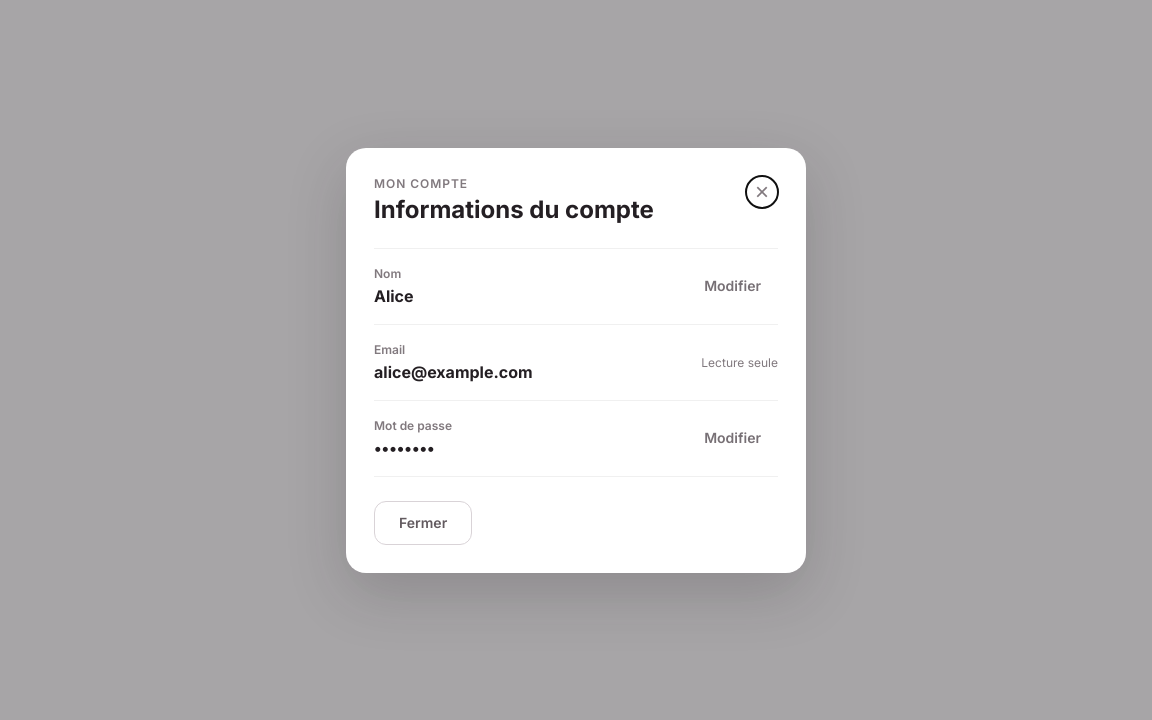
Test: AccountInfoModal › affiche l’email en lecture seule et permet de modifier le nom
Expected: the text "alice@example.com" is shown, top-left (374, 362), bottom-right (533, 382)
Expected: the text "Lecture seule" is shown, top-left (701, 354), bottom-right (778, 370)
Click the button "Modifier" in the row of "Nom" at (733, 286), box top-left (687, 264), bottom-right (778, 308)
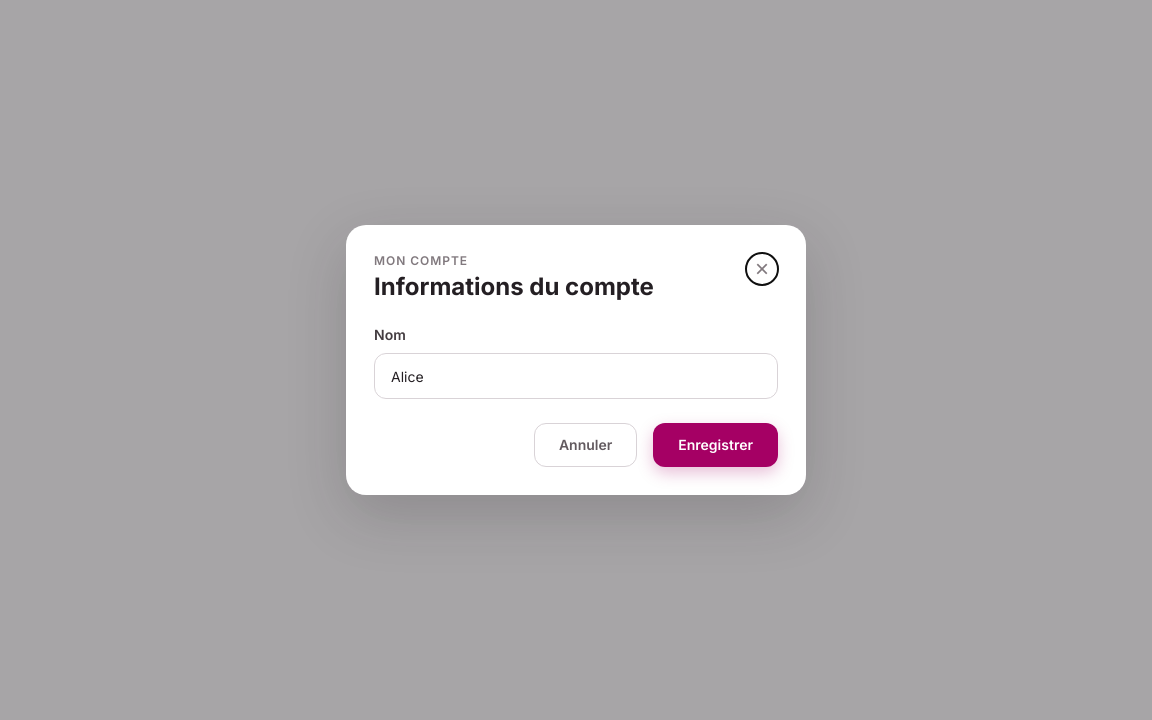
Replace the text in the field labelled "Nom" with "Alice Martin" at (576, 376), box top-left (374, 353), bottom-right (778, 399)
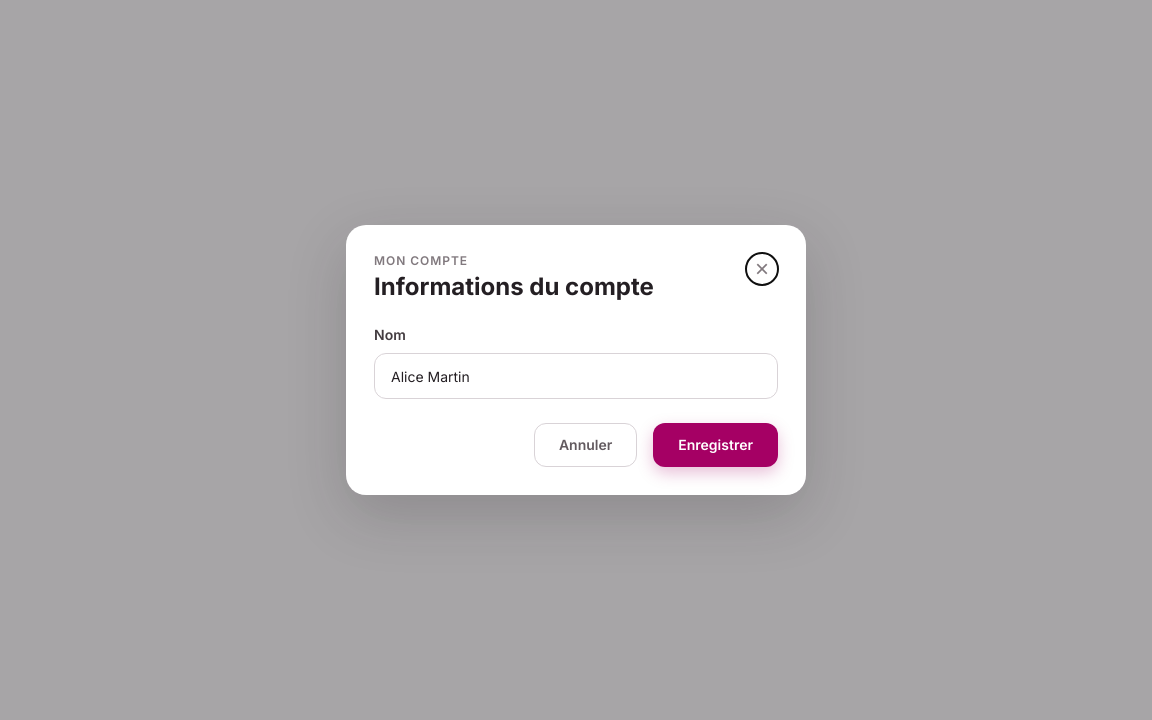
Click the button "Enregistrer" at (716, 445), box top-left (653, 423), bottom-right (778, 467)
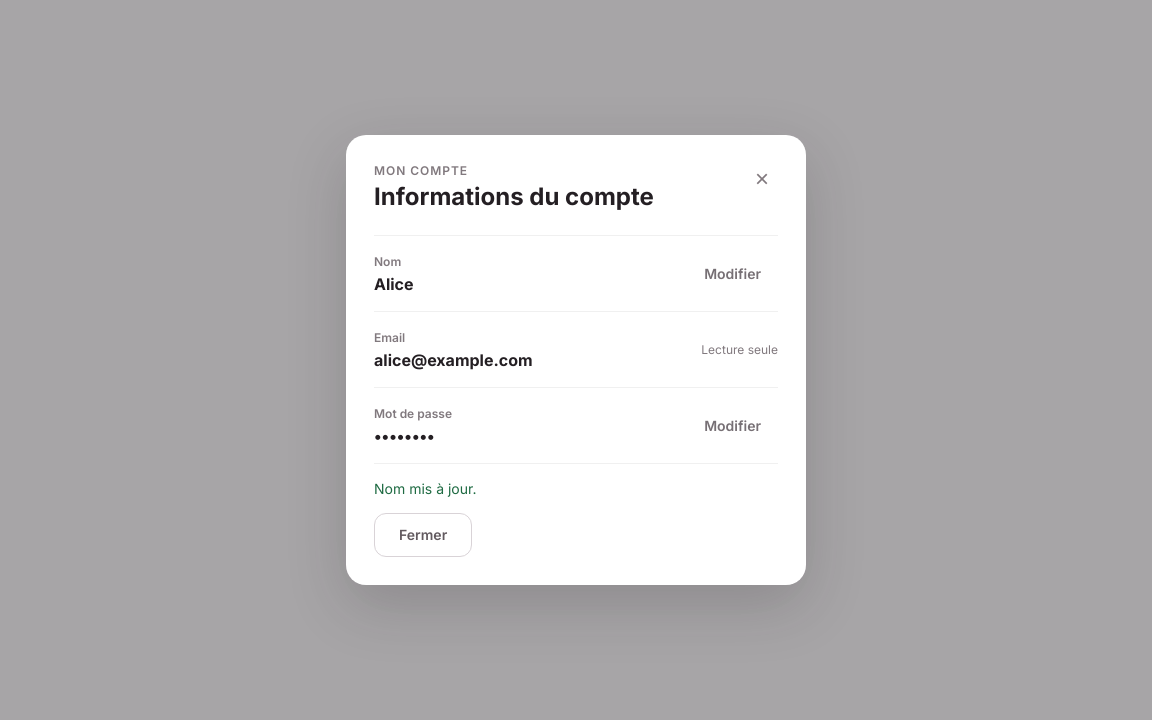
Expected: the message reads "Nom mis à jour.", top-left (374, 480), bottom-right (476, 497)
